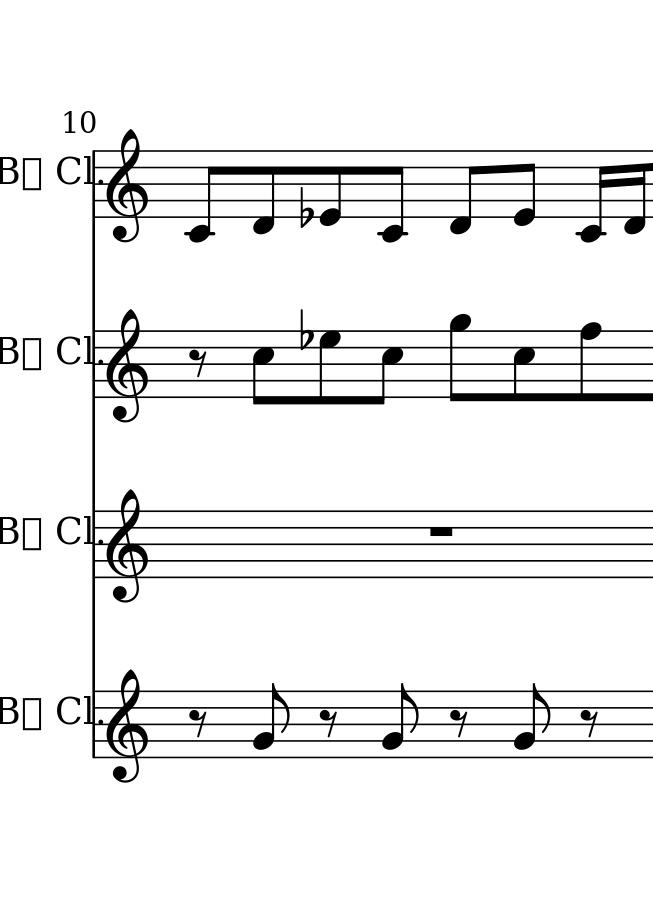0: (79, 108, 98, 137)
1: (63, 109, 75, 136)
16_-1: (622, 147, 647, 235)
16_-2: (576, 149, 610, 243)
8_-1: (448, 149, 480, 237), (251, 149, 278, 237)
8_-2: (183, 147, 220, 243), (378, 149, 408, 243)
8_0: (511, 149, 538, 228), (318, 149, 344, 229)
8_2: (513, 682, 551, 758), (382, 682, 419, 758), (253, 683, 290, 758)
8_5: (371, 330, 405, 406), (511, 328, 537, 404), (251, 328, 275, 408)
8_7: (316, 329, 342, 407)
8_8: (577, 320, 602, 405)
8_9: (448, 313, 471, 404)
Cl: (55, 693, 91, 726), (55, 154, 92, 186), (56, 514, 93, 546), (56, 335, 91, 367)
Flat: (297, 186, 314, 230), (298, 307, 314, 352)
Gclef: (105, 668, 150, 784), (105, 127, 150, 242), (104, 488, 148, 604), (107, 309, 150, 423)
Rests1: (425, 523, 456, 539)
Rests8: (187, 707, 211, 739), (579, 708, 601, 739), (188, 347, 209, 378), (319, 708, 340, 739), (449, 708, 470, 739)
Single_barline: (89, 329, 105, 399), (87, 151, 102, 219), (88, 512, 103, 578), (89, 691, 103, 758)
